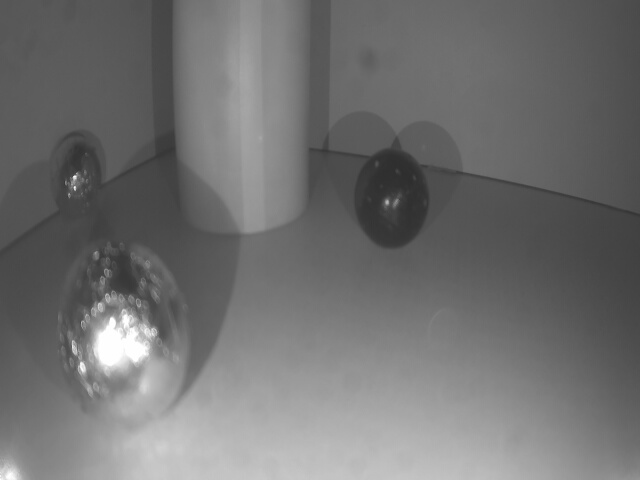Dead: (352, 146, 429, 251)
Live: (52, 241, 197, 434), (49, 135, 104, 220)
